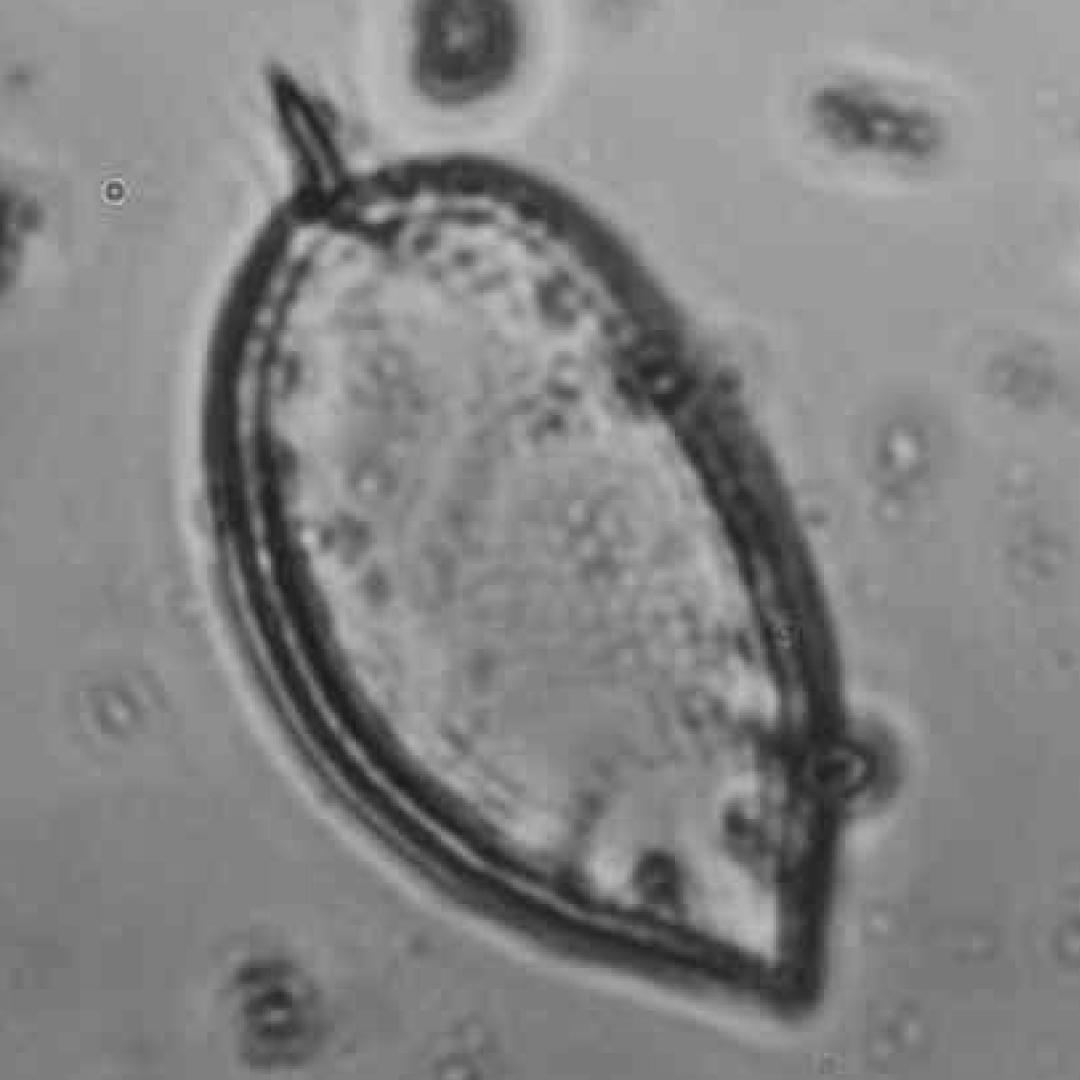prorocentrum_micans: (229, 76, 870, 999)
